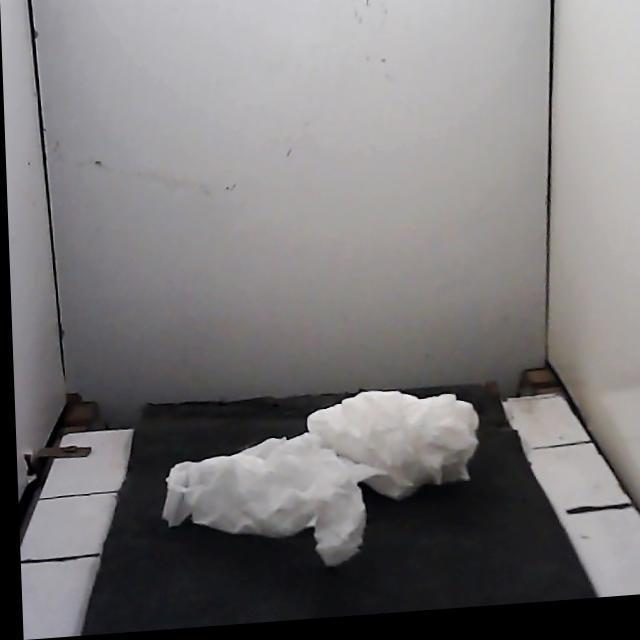papel: (162, 391, 478, 565)
